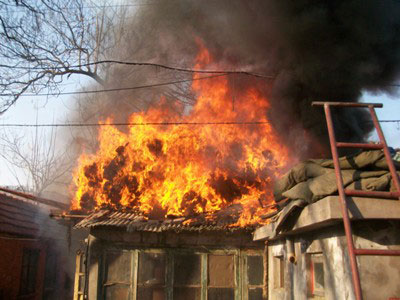fire: (80, 54, 293, 223)
